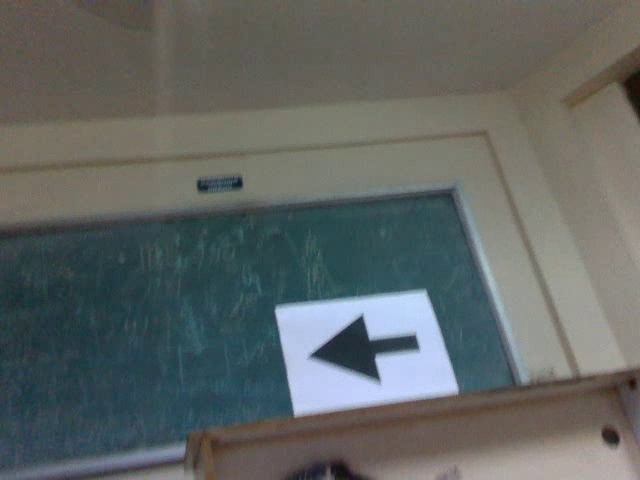Left: (303, 308, 425, 389)
